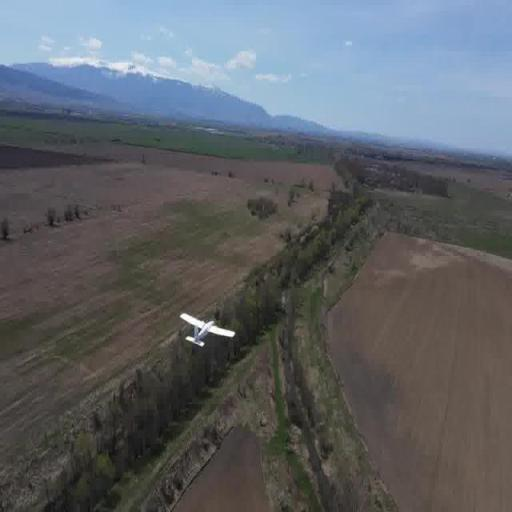uav: (178, 306, 238, 357)
